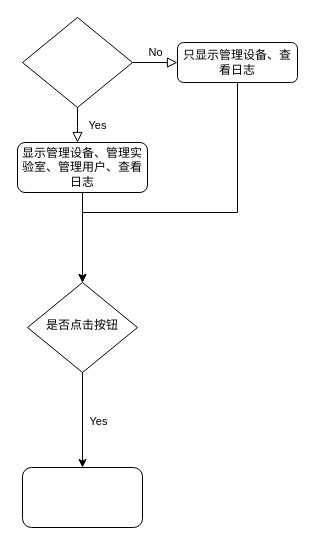
This 315x545 diagram has some shape labels left out. The shapes that lost their labels are listed below. From the top down, each one's centre as x and y in pixels, then its label:
At (x=77, y=62): "是否是管理员".
At (x=82, y=497): "进入相应界面".
